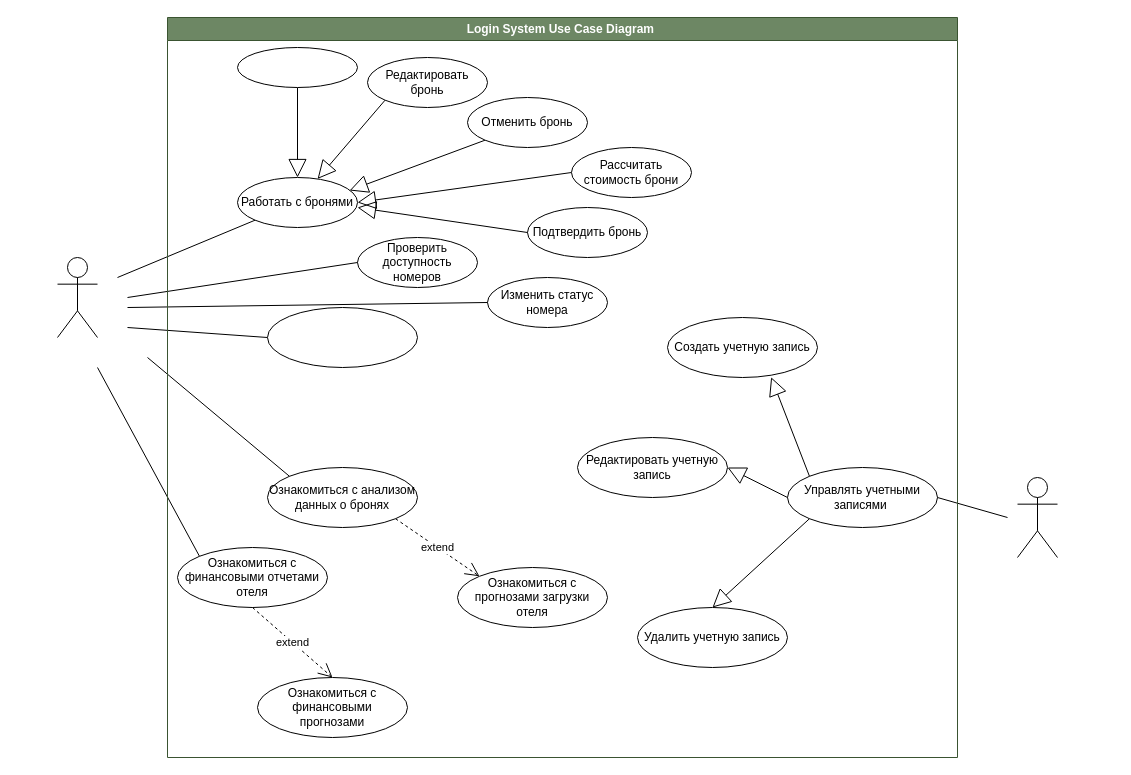
This 1131x775 diagram has some shape labels left out. Here are the shapes that lost their labels. From the top down, the centre of each, then its label:
(x=297, y=67): Создать бронь
(x=77, y=297): Администратор отеля
(x=342, y=337): Провести регистрацию оплаты
(x=1037, y=517): Системный администратор
